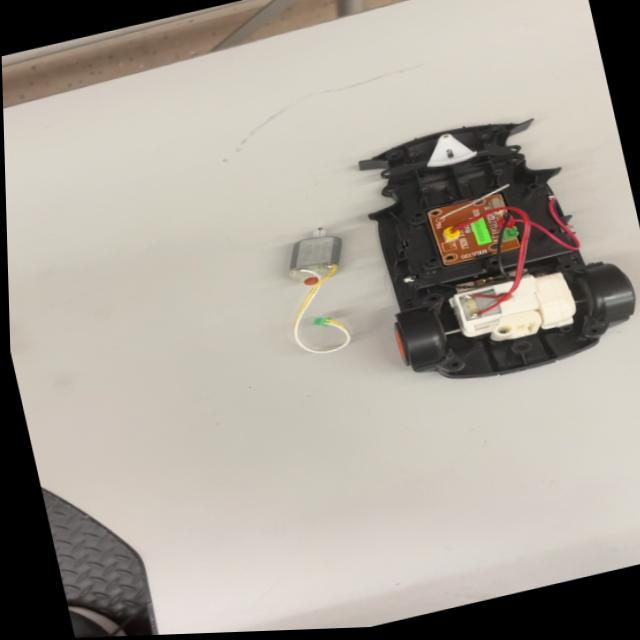Chassis: (344, 95, 640, 404)
motor: (276, 219, 352, 293)
